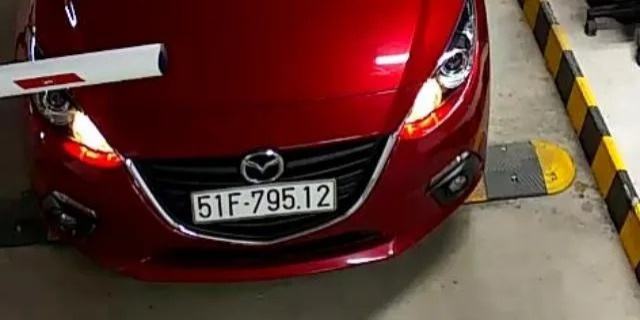bien_so: (194, 184, 334, 217)
